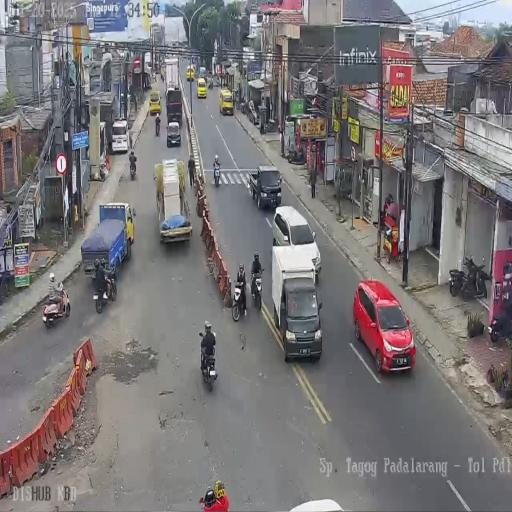3: (156, 158, 192, 244), (164, 54, 180, 96)
car: (355, 281, 416, 373), (275, 205, 321, 282), (248, 163, 281, 210), (111, 118, 130, 154), (219, 88, 234, 116), (166, 120, 181, 146), (149, 91, 162, 115), (197, 78, 207, 99), (186, 66, 195, 82), (199, 66, 206, 79)
truck: (449, 254, 487, 300), (43, 282, 71, 328), (489, 293, 512, 343), (198, 334, 218, 390), (93, 266, 117, 312), (231, 277, 248, 322), (250, 267, 264, 310), (286, 144, 306, 165), (213, 162, 221, 188), (130, 157, 136, 180), (155, 118, 161, 136), (241, 99, 246, 114), (208, 77, 213, 90), (160, 72, 164, 82)
